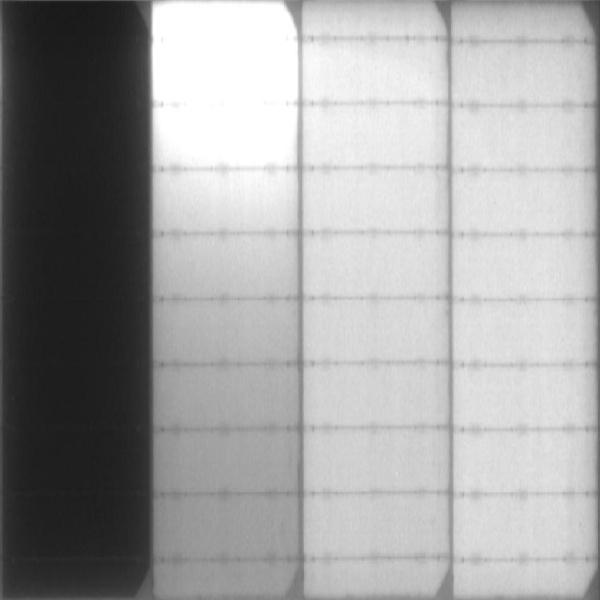hot_spot: (152, 104, 297, 162), (152, 43, 299, 98), (154, 2, 283, 38)
no_electricity: (1, 5, 151, 600)
